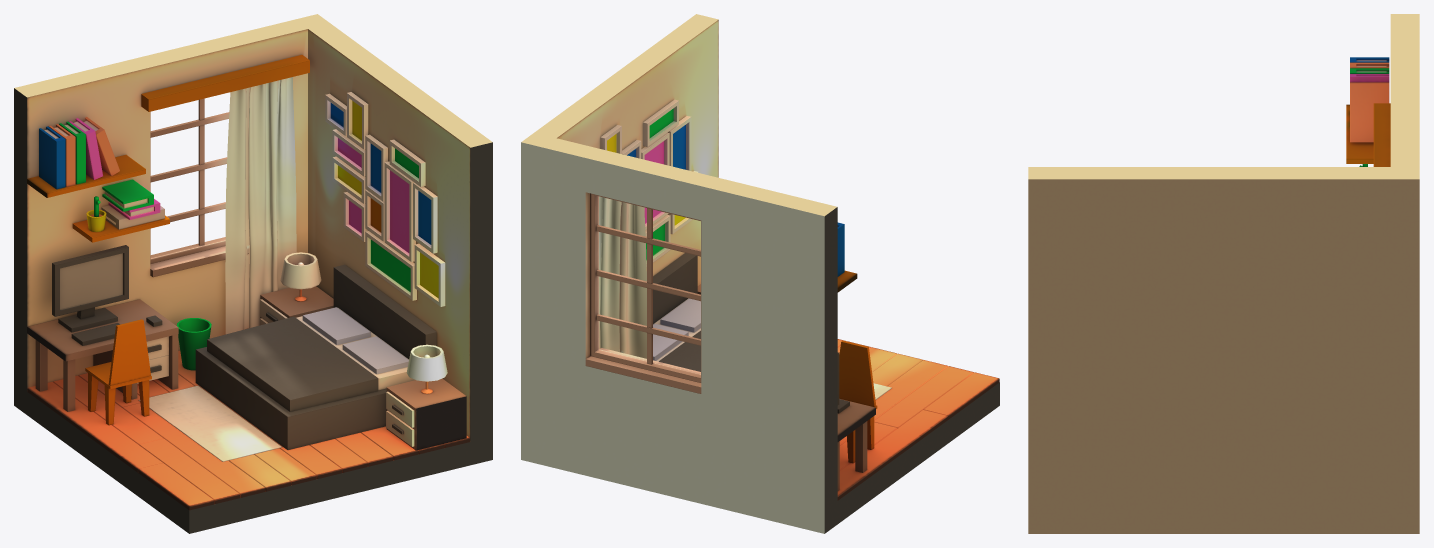
The picture shows the model from 3 angles, left to right: view 1: azimuth 30°, elevation 25°; view 2: azimuth 150°, elevation 25°; view 3: azimuth 270°, elevation 25°; orthographic projection. The views are drawn at different scales.
Parts seen in each view (by area): view 1: Home; view 2: Home; view 3: Home.
Boxes of the visible parts, x1,y1,x2,y2 form: Home: (14, 14, 492, 533); Home: (521, 14, 999, 533); Home: (1028, 14, 1419, 533).
Bounding box in the file's own units: 235 × 235 × 235.
Materials: 1 (1 with a texture image).
